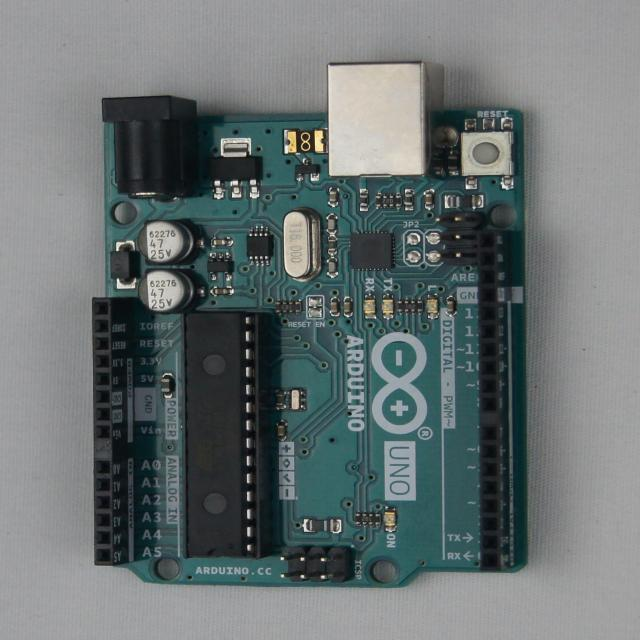Arduino Uno -Green-: (94, 64, 527, 588)
